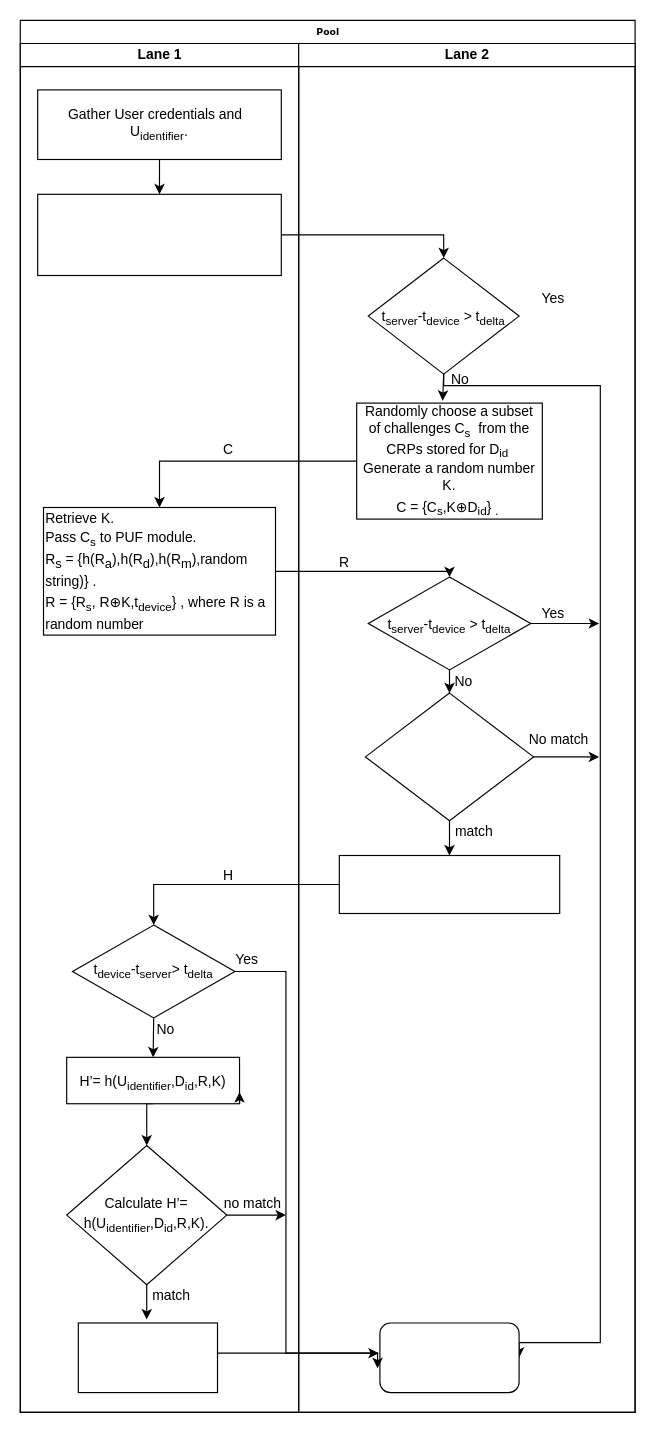
Some shapes in this 655 by 1433 pixel diagram are drawn without their labels. Here are the shapes that lost their labels. From the top down, the centre of each, then its label:
At point (159, 234): "H cred = h(username||password) Hauth= {H cred ,D id ,h(U identifier ),t device }".
At point (449, 756): "Validate R s against the database".
At point (449, 883): "H response = h(U identifier ,D id ,R,K). H ={H response , t server }".
At point (147, 1357): "Contact Authorization Server for OAuth Token".
At point (449, 1357): "Stop".
